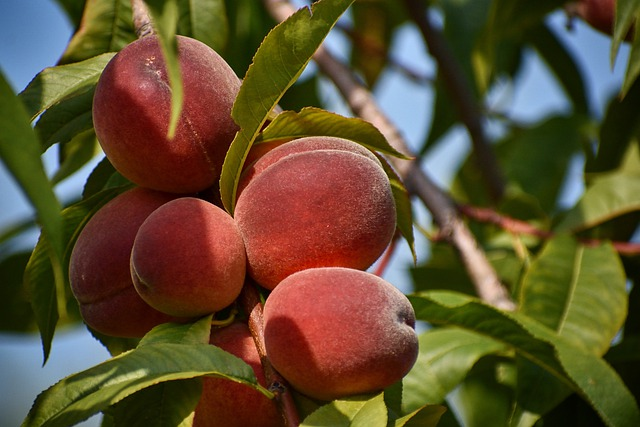peach: (94, 33, 251, 194), (244, 136, 395, 281), (259, 266, 416, 398), (133, 196, 250, 318)
